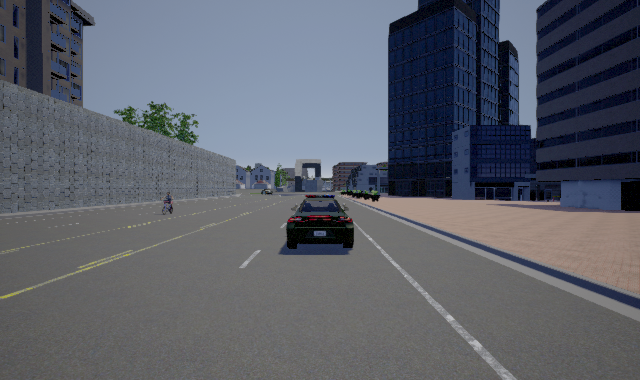bike: (162, 192, 176, 216)
vehicle: (286, 195, 354, 249)
